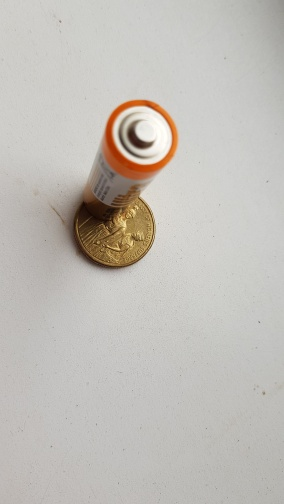coin: (73, 194, 156, 270)
